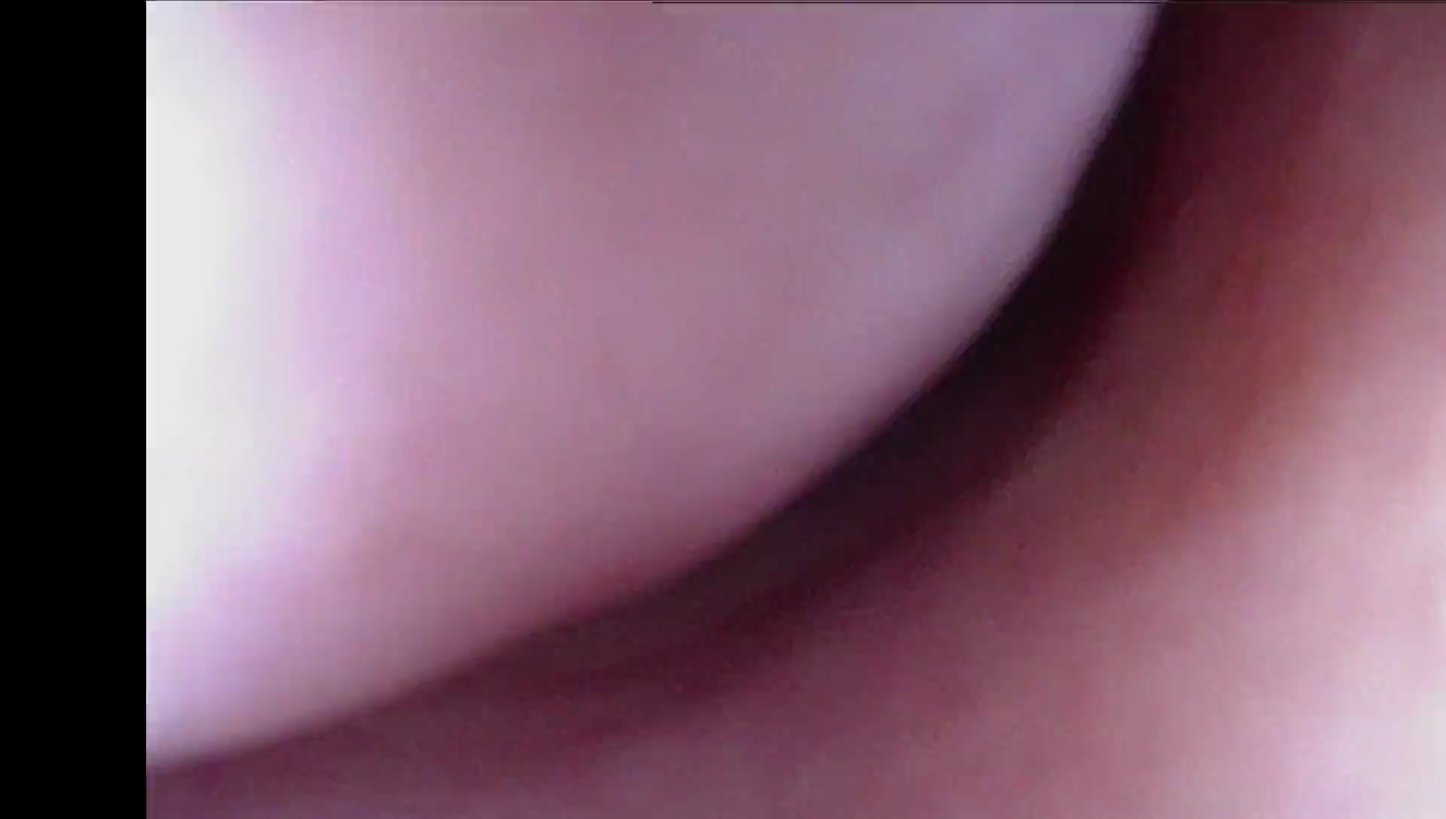close_wall: (155, 5, 551, 754), (1084, 462, 1446, 819)
next: (837, 43, 1202, 503)
